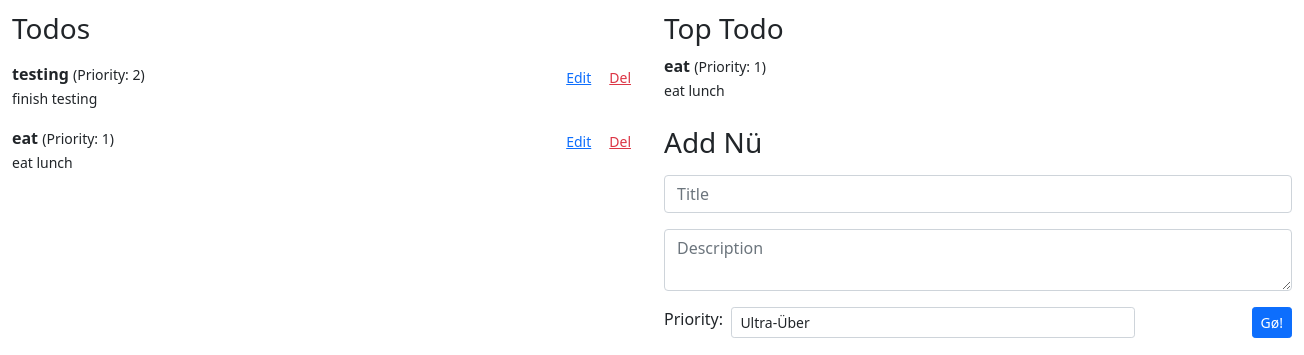
Scenario: TodoApp › updates todo
Click the button "Edit" in the row of "finish testing": [579, 77] box x1=557 y1=62 x2=600 y2=93
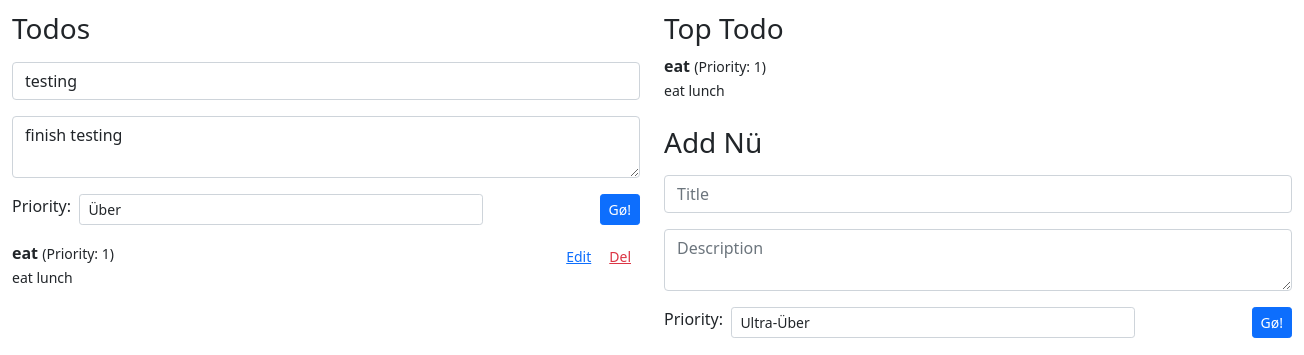
Replace the text in the field showing "testing" with "test2": [326, 81] box x1=12 y1=62 x2=640 y2=100
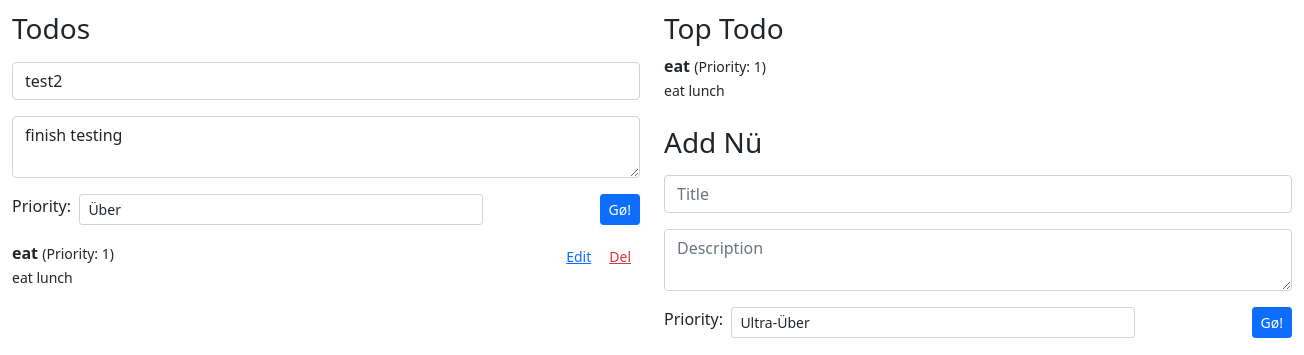
Replace the text in the text box showing "finish testing" with "testing2": [326, 147] box x1=12 y1=116 x2=640 y2=178
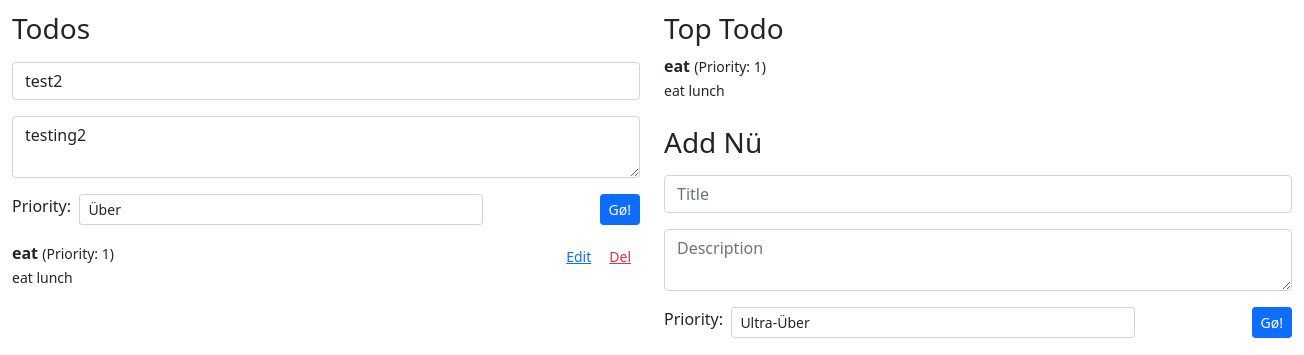
Select "Meh" in the dropdown labelled "Priority:": [281, 209] box x1=79 y1=194 x2=483 y2=225
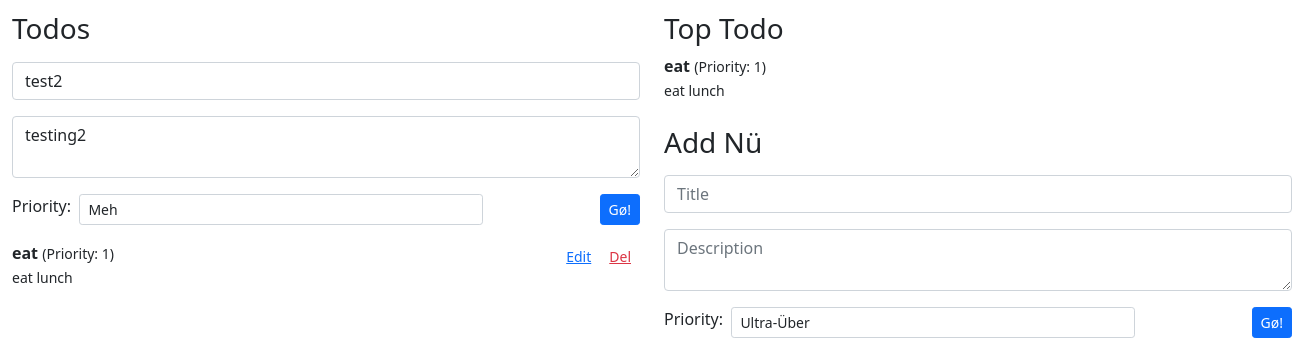
Click the 1st button "Gø!": [620, 209] box x1=600 y1=194 x2=640 y2=225
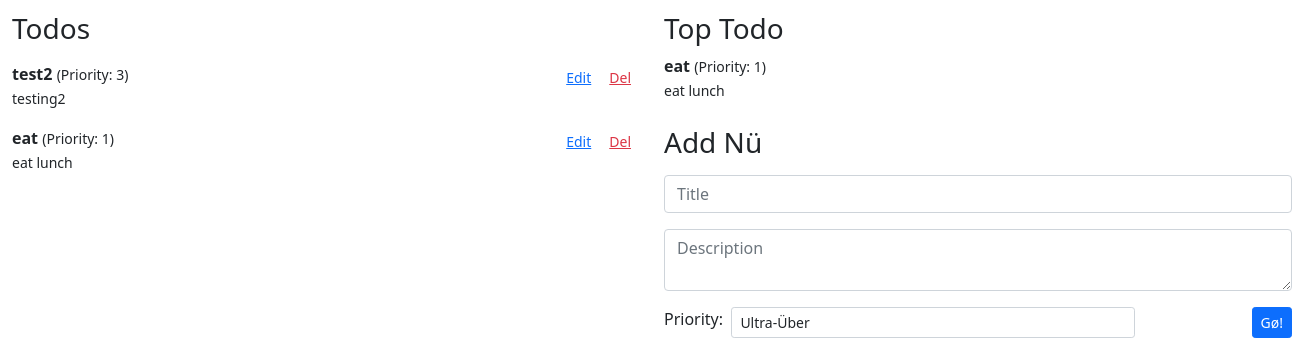
Expected: the text "test2" is shown, x1=12 y1=63 x2=52 y2=85
Expected: the text "testing2" is shown, x1=12 y1=89 x2=66 y2=108
Expected: the text "(Priority: 3)" is shown, x1=57 y1=65 x2=128 y2=84
